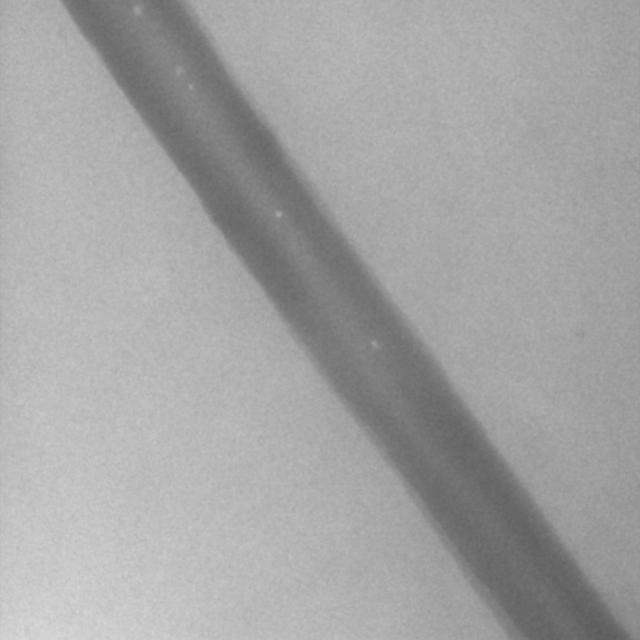air hole: (130, 2, 142, 17), (368, 337, 379, 351), (273, 206, 282, 219)
